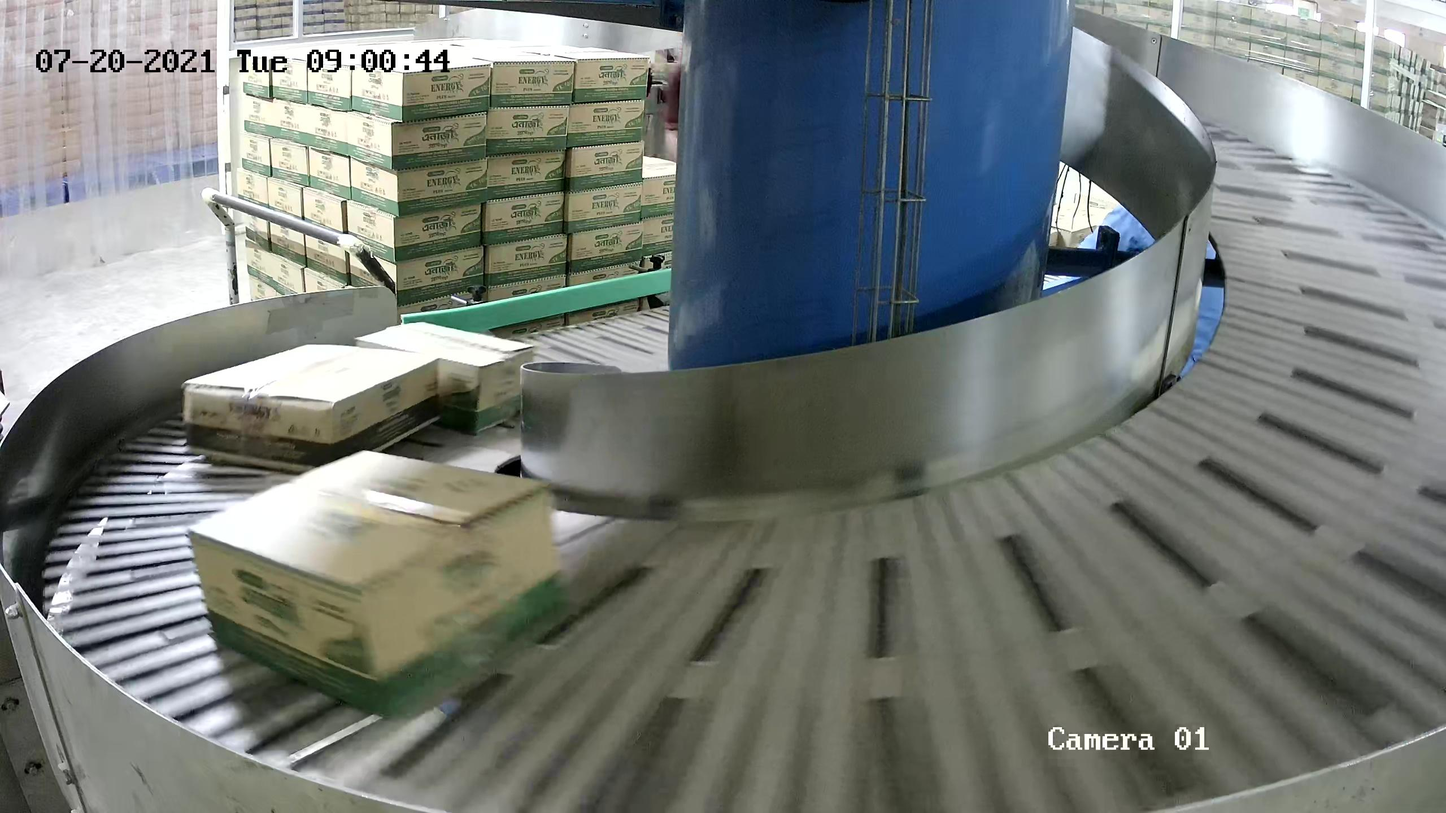Box: (186, 449, 568, 721), (183, 342, 441, 472), (354, 321, 534, 435)
